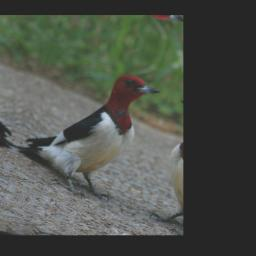Woodpecker: (7, 43, 166, 212)
